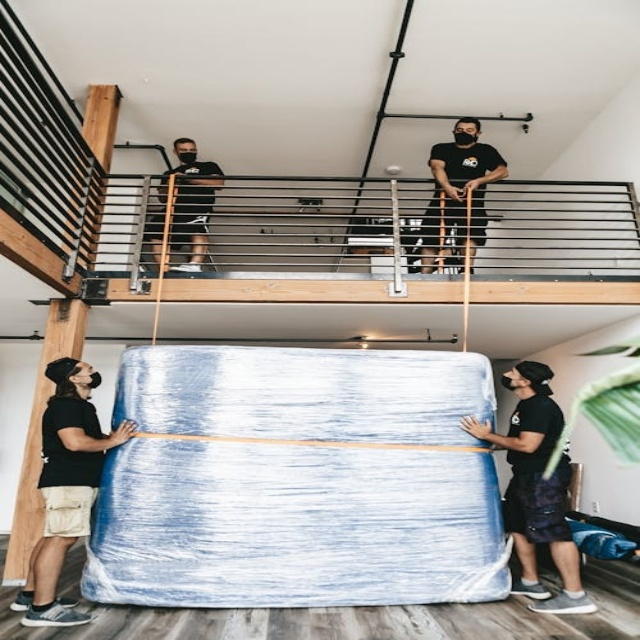Mascara: (500, 375, 522, 391), (454, 132, 477, 145), (87, 372, 102, 389), (178, 152, 197, 163)
Sin_gafas: (497, 364, 522, 375), (172, 143, 197, 153), (77, 364, 100, 374), (452, 125, 477, 131)
Sin_guantes: (106, 415, 143, 447), (440, 178, 484, 201), (459, 414, 495, 439)
